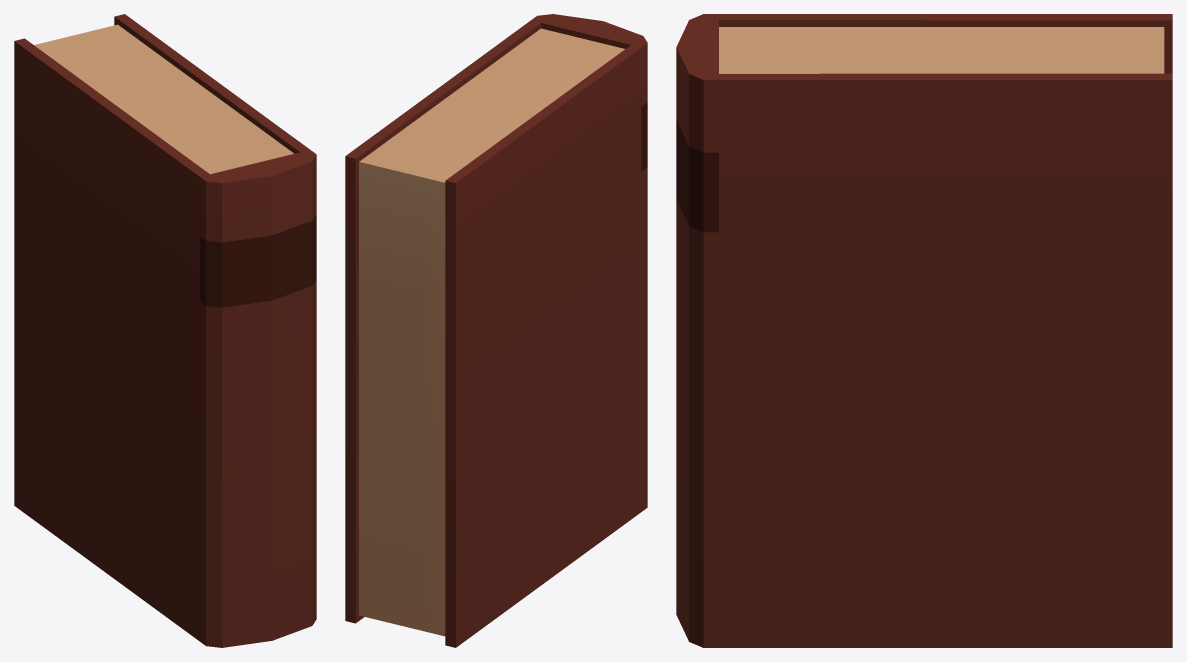
Rendered from Book_red_B.fbx.
The picture shows the model from 3 angles, left to right: view 1: azimuth 30°, elevation 25°; view 2: azimuth 150°, elevation 25°; view 3: azimuth 270°, elevation 25°; orthographic projection. The views are drawn at different scales.
Parts seen in each view (by area): view 1: Book_red_B; view 2: Book_red_B; view 3: Book_red_B.
Boxes of the visible parts, x1,y1,x2,y2 form: Book_red_B: [14, 14, 316, 647]; Book_red_B: [345, 14, 647, 647]; Book_red_B: [676, 14, 1172, 647].
Bounding box in the file's own units: 6.32 × 25.38 × 20.08.
